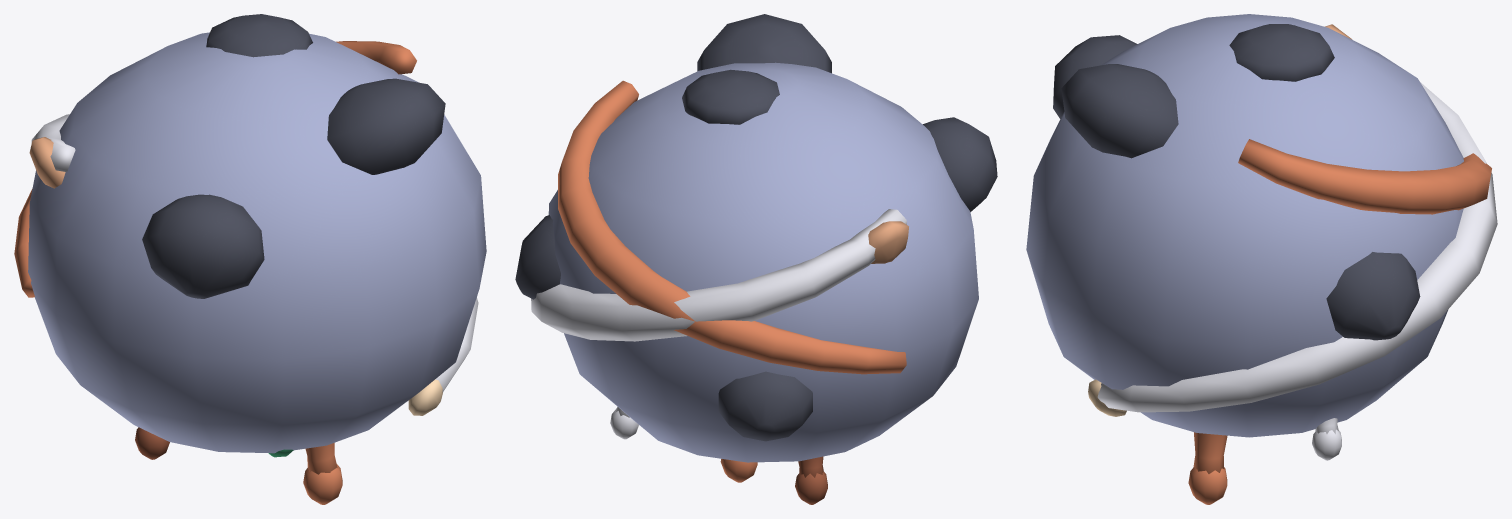
Rendered from bomb_ball.glb.
The picture shows the model from 3 angles, left to right: view 1: azimuth 30°, elevation 25°; view 2: azimuth 150°, elevation 25°; view 3: azimuth 270°, elevation 25°; orthographic projection. The views are drawn at different scales.
Parts seen in each view (by area): view 1: ball, bulges, ropes, drips, skin; view 2: ball, ropes, bulges, drips, skin; view 3: ball, ropes, bulges, drips, skin.
Part boxes in pixels (left/top/right/bottom): ball: left=28, top=32, right=486, bottom=453; bulges: left=142, top=14, right=445, bottom=298; ropes: left=14, top=41, right=478, bottom=392; drips: left=135, top=427, right=342, bottom=504; skin: left=29, top=137, right=442, bottom=457; ball: left=548, top=62, right=978, bottom=462; ropes: left=531, top=80, right=906, bottom=374; bulges: left=515, top=14, right=997, bottom=441; drips: left=610, top=407, right=827, bottom=504; skin: left=868, top=221, right=908, bottom=263; ball: left=1026, top=14, right=1463, bottom=437; ropes: left=1097, top=82, right=1497, bottom=412; bulges: left=1053, top=24, right=1420, bottom=340; drips: left=1188, top=418, right=1341, bottom=504; skin: left=1088, top=24, right=1352, bottom=416.
Size of the model in its own units: 1.25 by 1.36 by 1.27.
